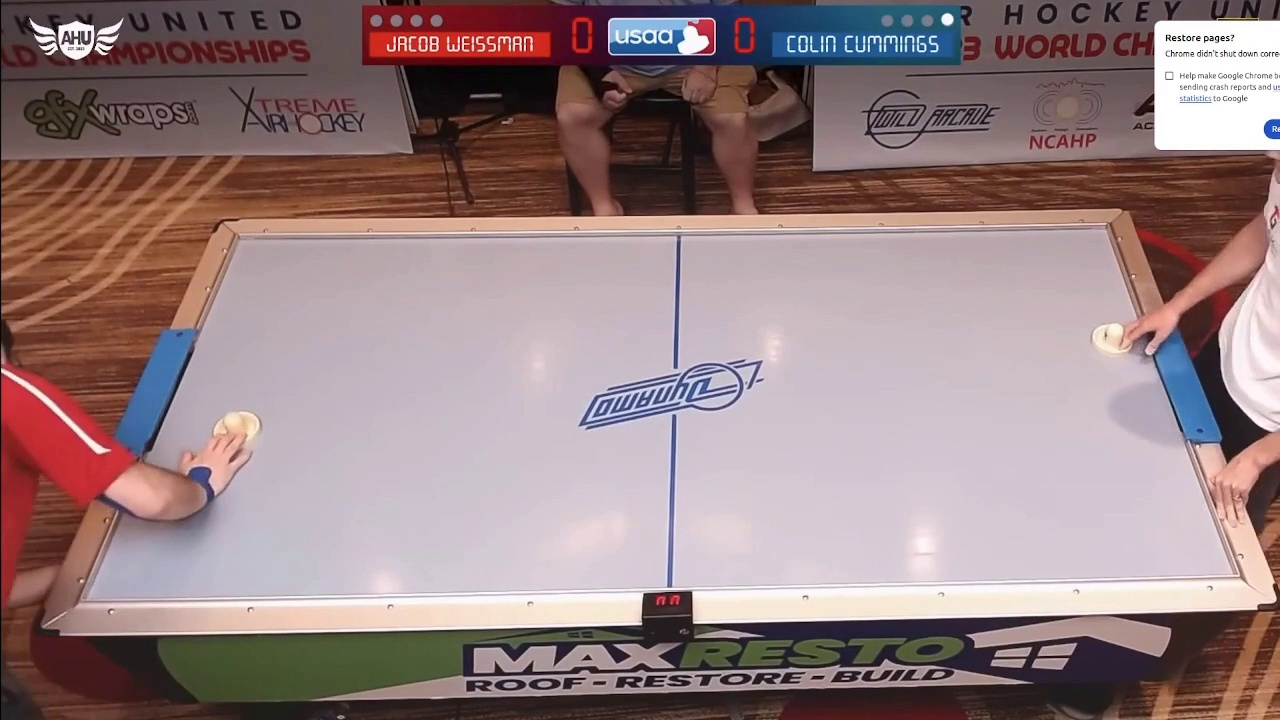player: (208, 408, 266, 446), (1090, 322, 1135, 356)
table: (61, 213, 1271, 623)
